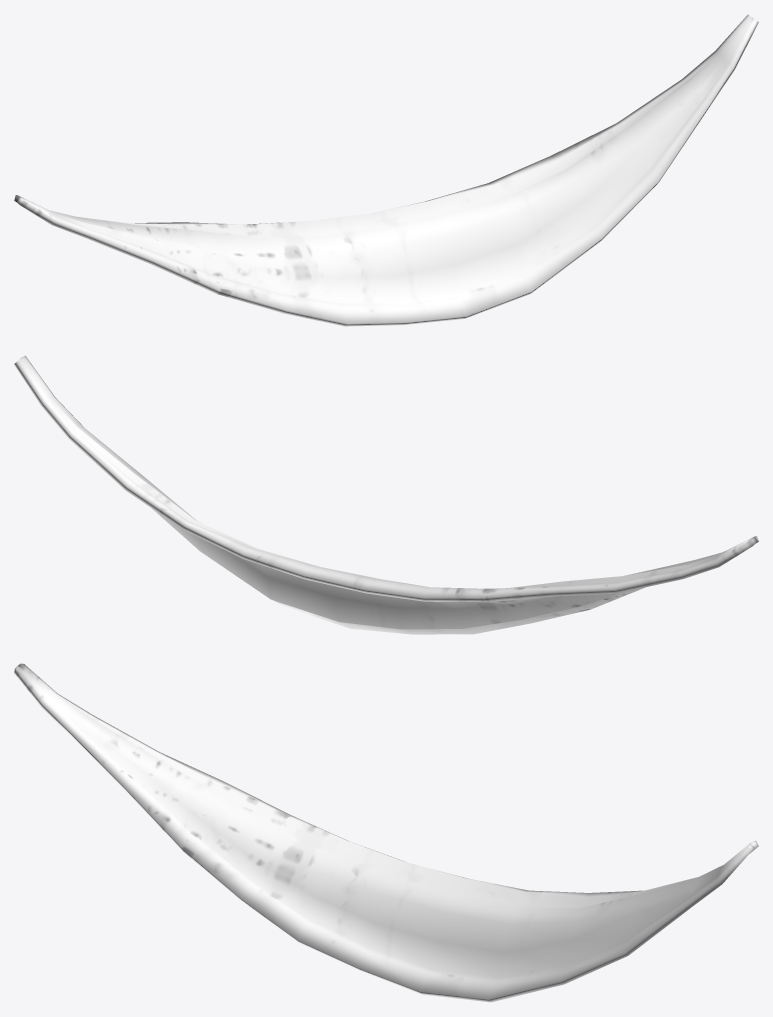
The model's file is SM_PROP_cloth_town_04.fbx.
3 renders of one model, top to bottom at view 1: azimuth 30°, elevation 25°; view 2: azimuth 150°, elevation 25°; view 3: azimuth 330°, elevation 25°, orthographic.
Parts seen in each view (by area): view 1: SM_PROP_cloth_town_04_LOD0; view 2: SM_PROP_cloth_town_04_LOD0; view 3: SM_PROP_cloth_town_04_LOD0.
Part boxes in pixels (left/top/right/bottom): SM_PROP_cloth_town_04_LOD0: left=14, top=14, right=758, bottom=326; SM_PROP_cloth_town_04_LOD0: left=14, top=355, right=758, bottom=634; SM_PROP_cloth_town_04_LOD0: left=14, top=663, right=758, bottom=1002.
Size of what is drawn, in the model's own units: 402 by 110 by 45.1.
